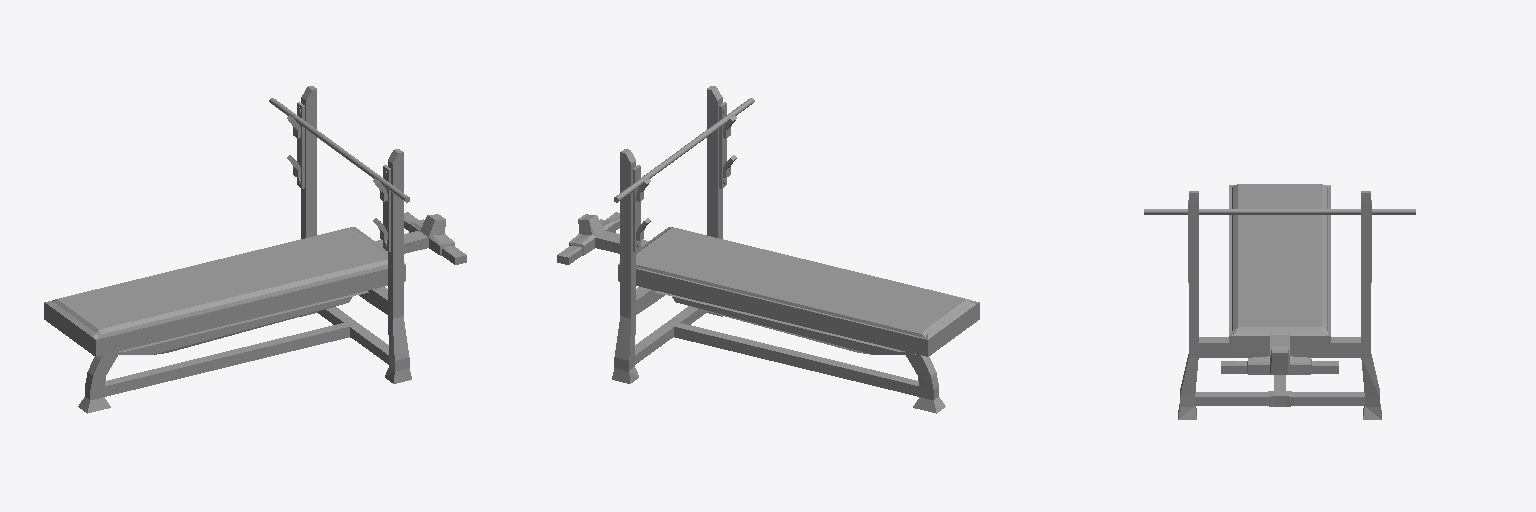
The model's file is benchLay.obj.
The picture shows the model from 3 angles: view 1: azimuth 30°, elevation 25°; view 2: azimuth 150°, elevation 25°; view 3: azimuth 270°, elevation 25°; orthographic projection.
Parts seen in each view (by area): view 1: benchLay; view 2: benchLay; view 3: benchLay.
Part boxes in pixels (bbox=[...]): benchLay: bbox=[44, 86, 466, 413]; benchLay: bbox=[557, 86, 979, 413]; benchLay: bbox=[1144, 184, 1415, 419].
Size of the model in its own units: 1.61 by 0.9309 by 1.02.